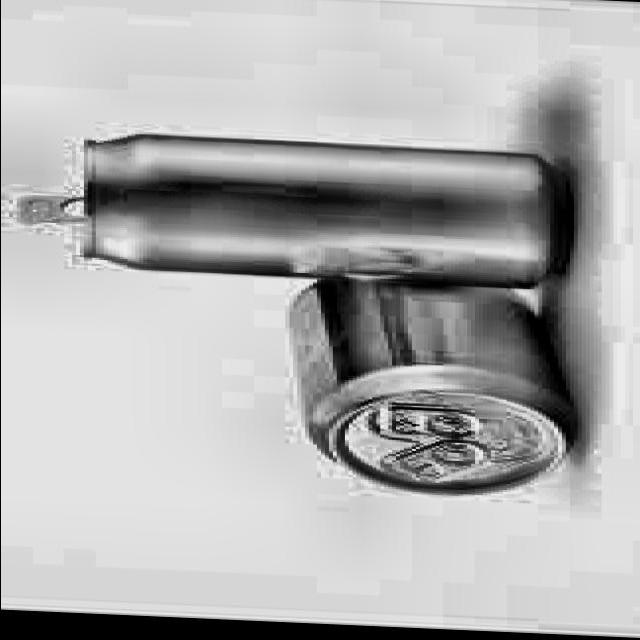litter: (9, 126, 580, 295), (268, 271, 586, 506)
